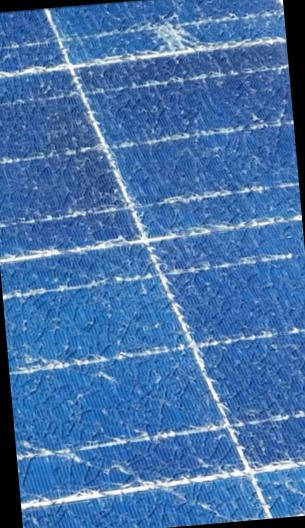Crack: (136, 2, 220, 70)
